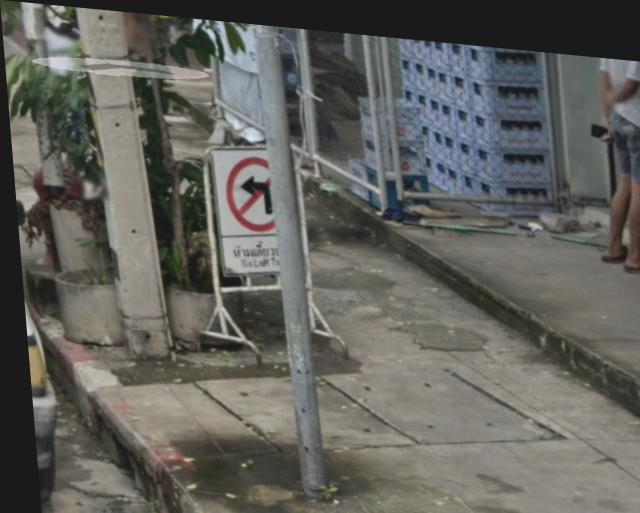not_turn_left: (222, 148, 273, 228)
